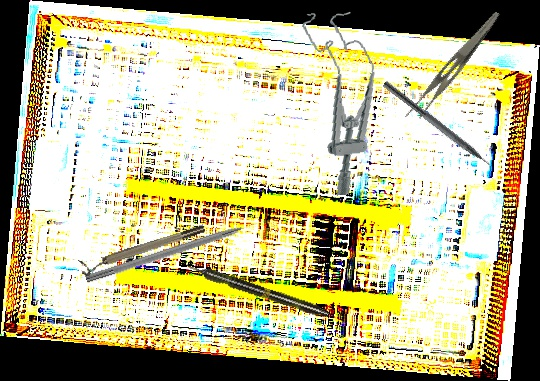Chopper: (376, 80, 502, 181)
Dressing Forceps: (403, 2, 501, 128)
Fixation Ring: (78, 222, 208, 278)
Handpiece: (184, 259, 331, 321)
Hook Surgical: (84, 217, 265, 286)
Speculum: (301, 6, 389, 198)
